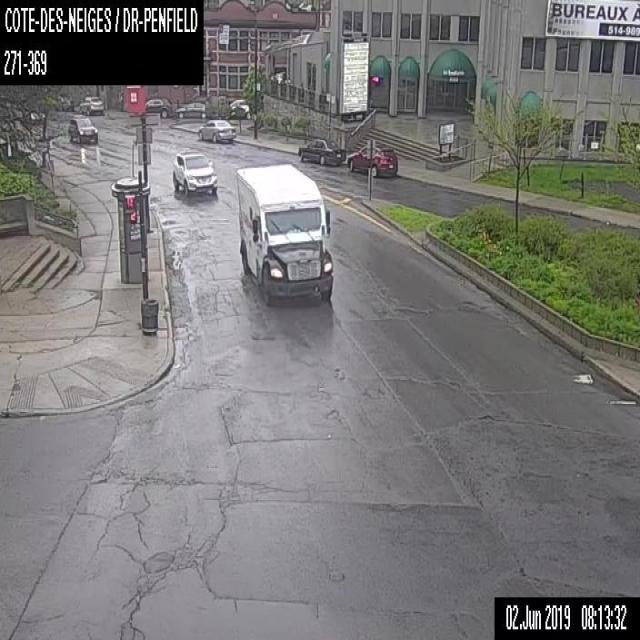vehicle: (236, 162, 333, 306), (172, 151, 217, 196), (347, 145, 397, 177), (298, 136, 346, 164), (197, 118, 236, 142), (67, 115, 97, 143), (144, 96, 172, 116), (175, 100, 205, 117), (79, 94, 103, 114), (229, 98, 250, 117), (56, 94, 74, 112)
